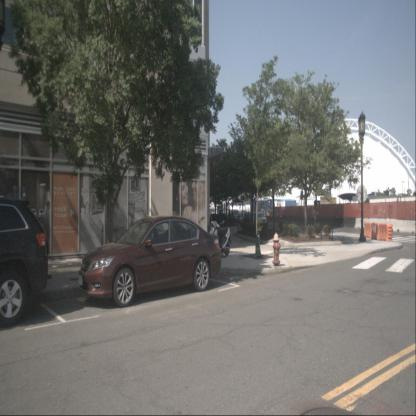movable_object-barrier: (378, 223, 393, 242), (405, 220, 416, 234), (363, 222, 372, 238), (395, 219, 406, 232), (386, 218, 396, 232), (371, 222, 379, 239), (354, 218, 365, 229), (322, 216, 332, 228), (344, 218, 356, 228), (378, 218, 387, 231), (338, 216, 346, 228), (330, 216, 338, 228), (364, 218, 372, 229), (372, 218, 379, 230), (315, 217, 323, 226), (310, 216, 316, 226), (291, 216, 297, 224), (297, 216, 302, 224)
vehicle-car: (78, 215, 222, 308), (0, 196, 49, 326), (254, 213, 268, 227), (228, 209, 241, 224), (236, 212, 247, 224)
vehicle-motorcycle: (208, 220, 231, 258)
